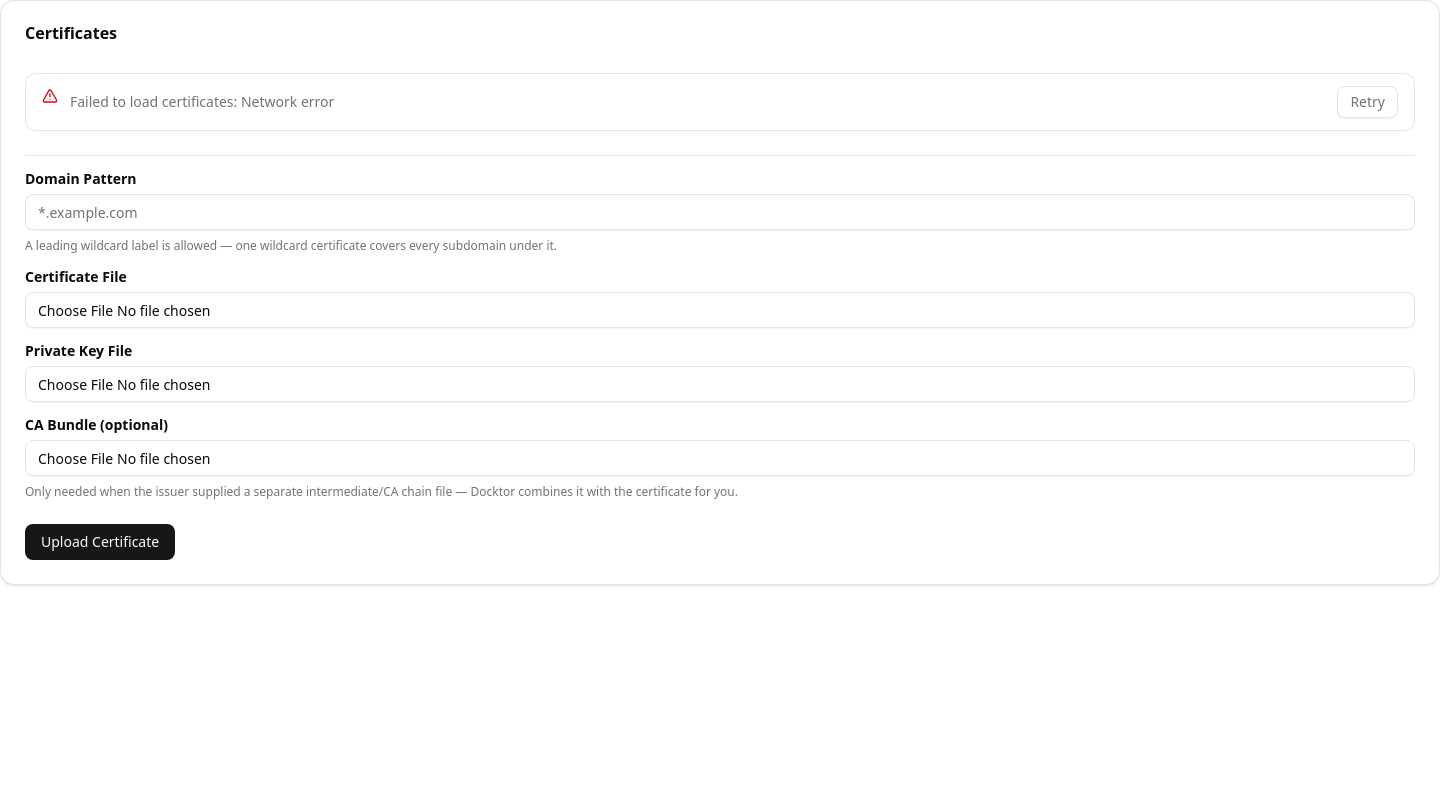
Scenario: CertificatesCard › renders a retry affordance rather than the empty state when the initial load fails
Check: the text "Failed to load certificates: Network error" is shown, box [70,92,334,112]
Click the button "Retry" at (1368, 102), box [1337,86,1398,118]
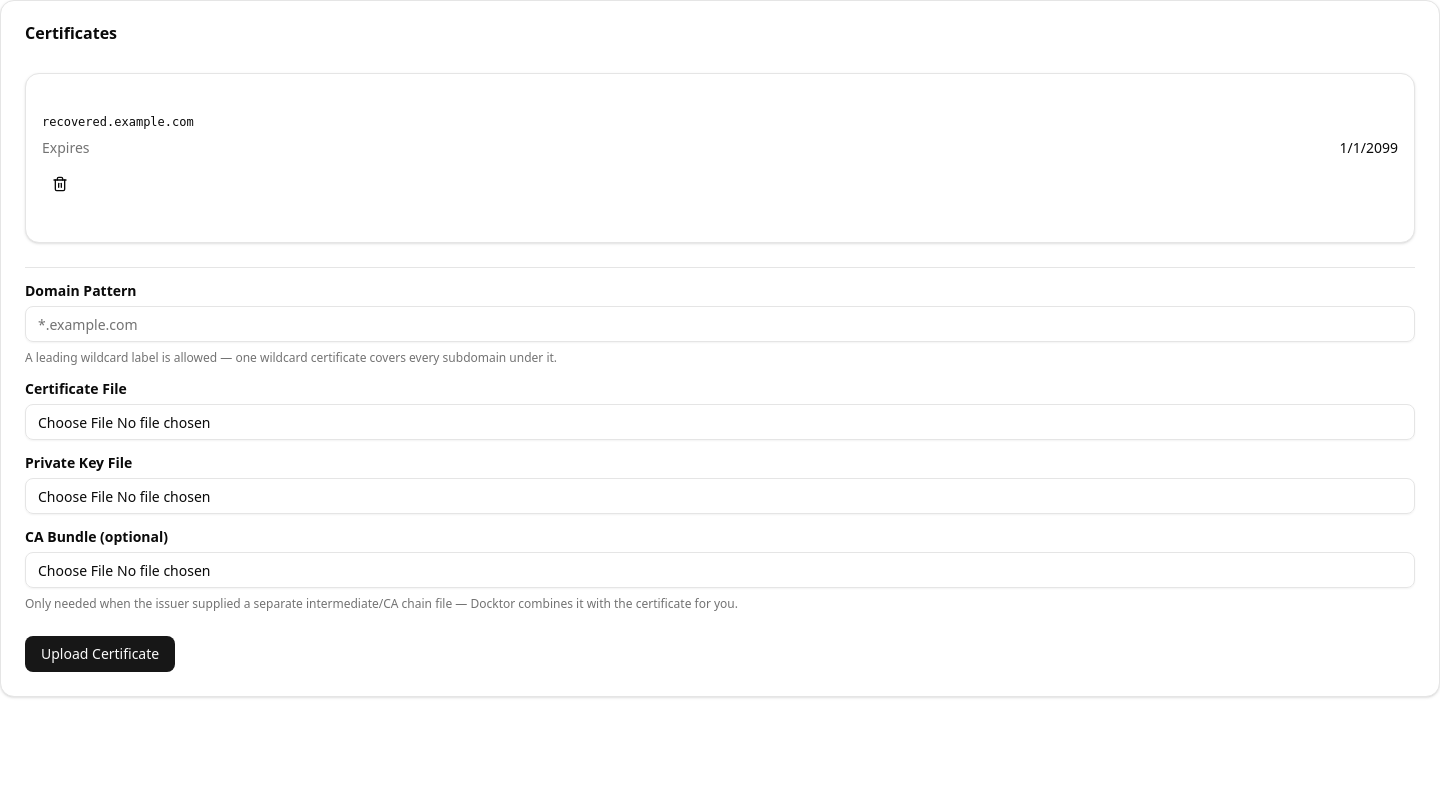
Check: the text "recovered.example.com" is shown, box [42,115,194,129]
